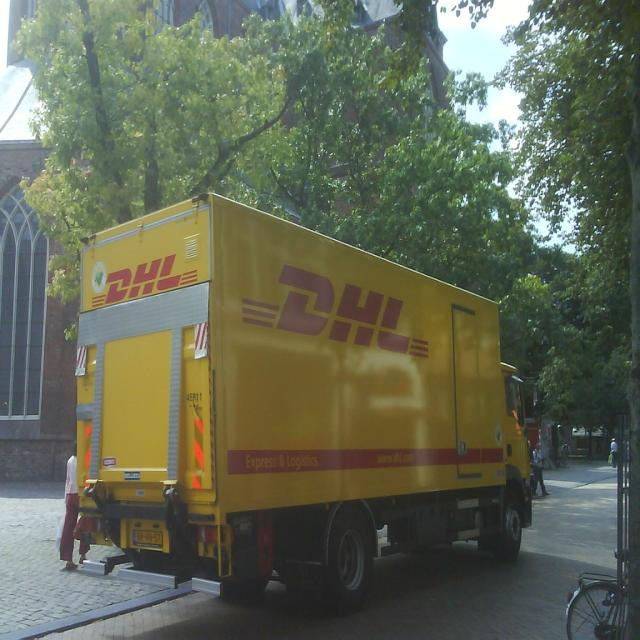dhl: (232, 253, 441, 372), (88, 243, 209, 313)
